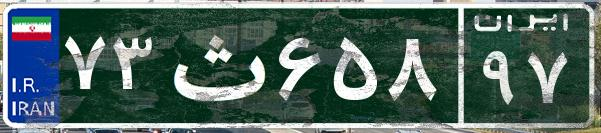3: (110, 28, 158, 105)
5: (330, 28, 385, 110)
6: (273, 28, 330, 110)
7: (57, 26, 110, 107), (525, 38, 570, 115)
8: (385, 28, 445, 110)
9: (475, 38, 525, 113)
ث: (158, 15, 273, 115)
